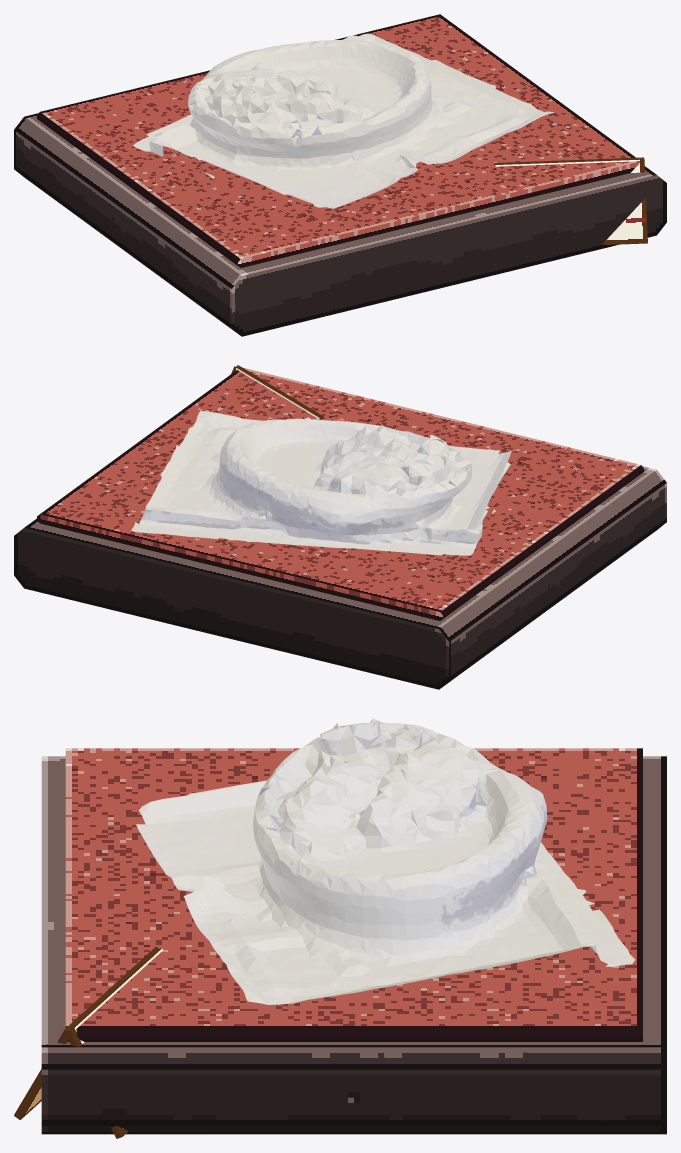
The model's file is katsu.glb.
3 renders of one model, top to bottom at view 1: azimuth 30°, elevation 25°; view 2: azimuth 150°, elevation 25°; view 3: azimuth 270°, elevation 25°, orthographic. The views are drawn at different scales.
Parts seen in each view (by area): view 1: felt, base, model_plate, card1; view 2: base, felt, model_plate; view 3: model_plate, felt, base, card1, card0.
Part boxes in pixels (left/top/right/bottom): felt: left=37, top=14, right=640, bottom=267; base: left=14, top=113, right=666, bottom=336; model_plate: left=133, top=33, right=554, bottom=208; card1: left=494, top=159, right=647, bottom=244; base: left=14, top=466, right=666, bottom=689; felt: left=37, top=368, right=643, bottom=620; model_plate: left=131, top=411, right=511, bottom=555; model_plate: left=136, top=718, right=635, bottom=1004; felt: left=65, top=748, right=642, bottom=1041; base: left=41, top=756, right=666, bottom=1134; card1: left=14, top=947, right=158, bottom=1119; card0: left=66, top=948, right=162, bottom=1138.
Size of the model in its own units: 30.12 by 9.36 by 27.15.
2 materials, 2 textured.
